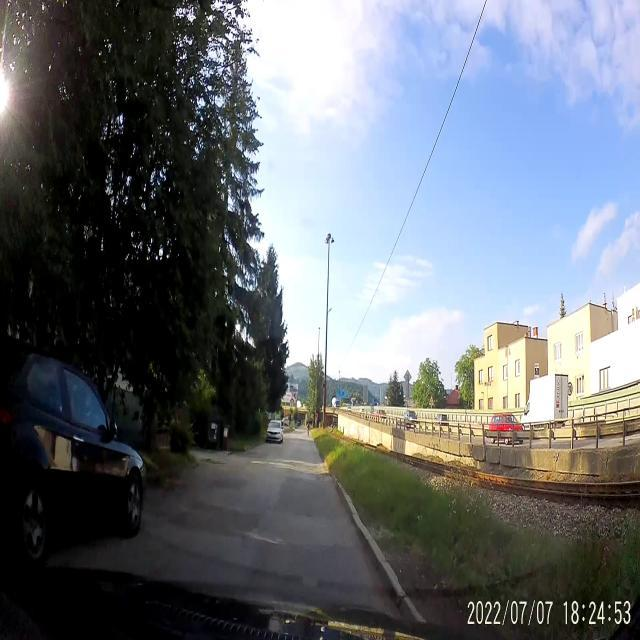Pothole: (200, 454, 228, 466)
